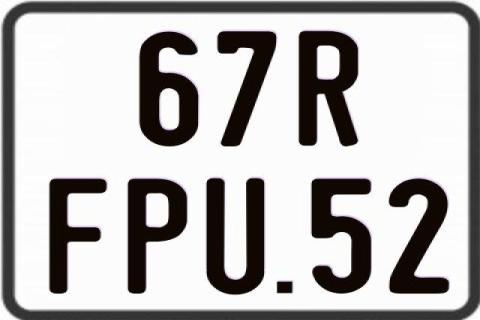0: (389, 179, 454, 297), (214, 29, 276, 145), (308, 177, 368, 296), (138, 29, 197, 145)
F: (49, 176, 110, 292)
P: (125, 178, 186, 298)
R: (299, 31, 360, 147)
U: (206, 178, 264, 298)
